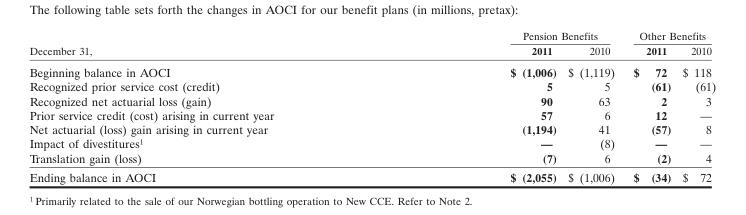table: (28, 28, 715, 183)
table column: (28, 28, 391, 183), (391, 28, 561, 183), (561, 28, 623, 183), (623, 28, 676, 183), (676, 28, 715, 183)
table column header: (28, 28, 715, 60)
table row: (28, 60, 715, 79), (28, 42, 715, 60), (28, 150, 715, 167), (28, 167, 715, 183), (28, 121, 715, 136), (28, 28, 715, 42), (28, 79, 715, 93), (28, 93, 715, 107), (28, 107, 715, 121), (28, 136, 715, 150)
table spanning cell: (28, 28, 391, 60), (391, 28, 623, 42), (623, 28, 715, 42)
